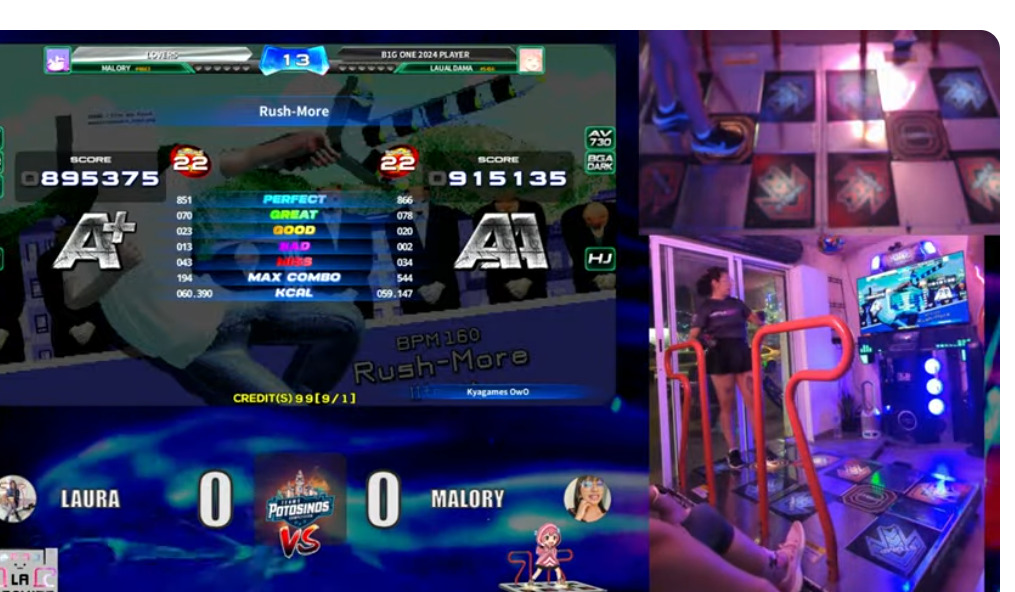difficulty: (378, 149, 425, 179)
fullscore: (244, 39, 625, 400)
rank: (445, 208, 557, 284)
score: (429, 150, 572, 192)
song_name: (216, 94, 375, 128)
